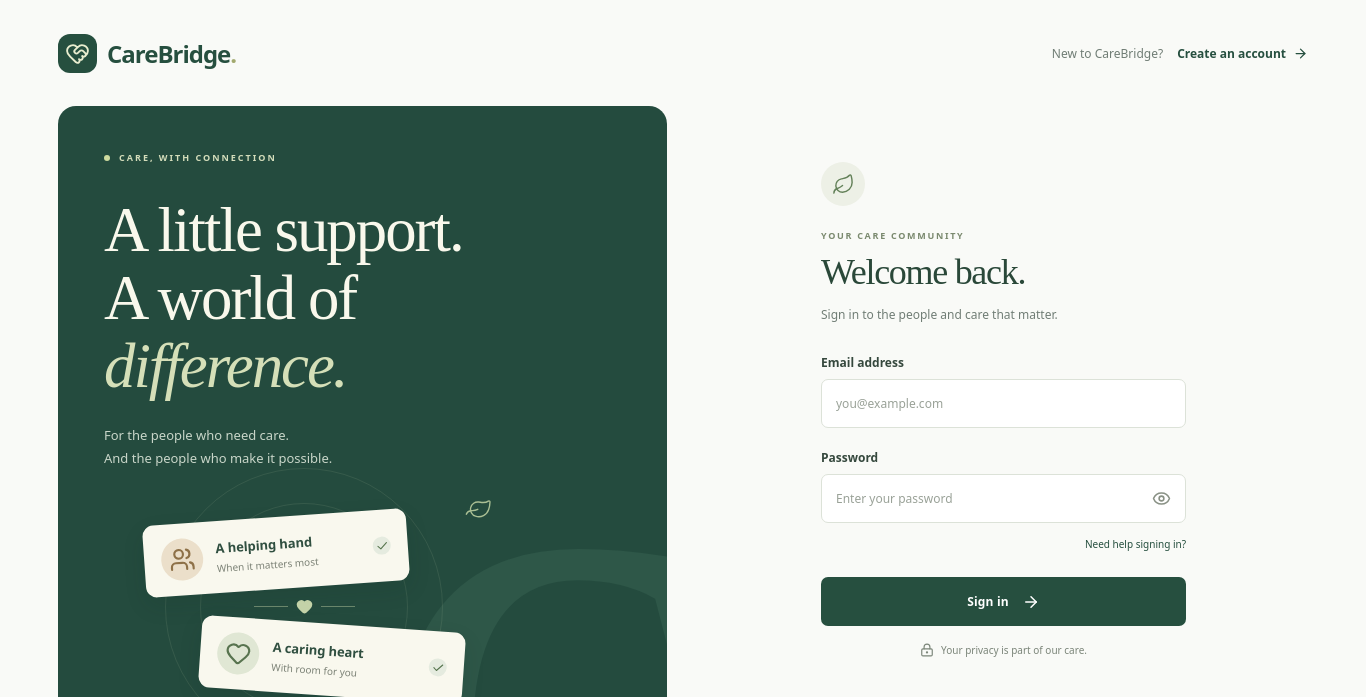
Test: CareBridge authentication › renders an accessible login form and signs in with email and password
In the field labelled "Email address": (1004, 404) [821,379,1186,428], type "guardian@example.com"
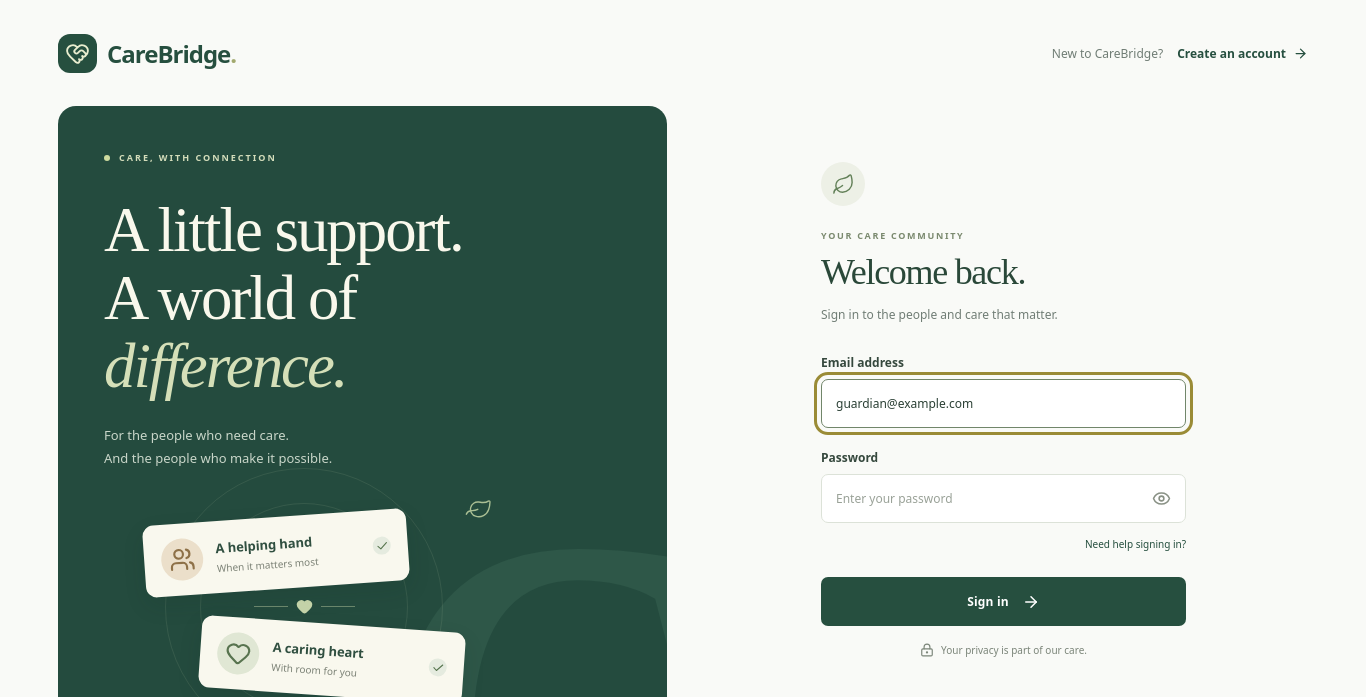
In the password field labelled "Password": (1004, 499) [821,474,1186,523], type "A-long-demo-password!"
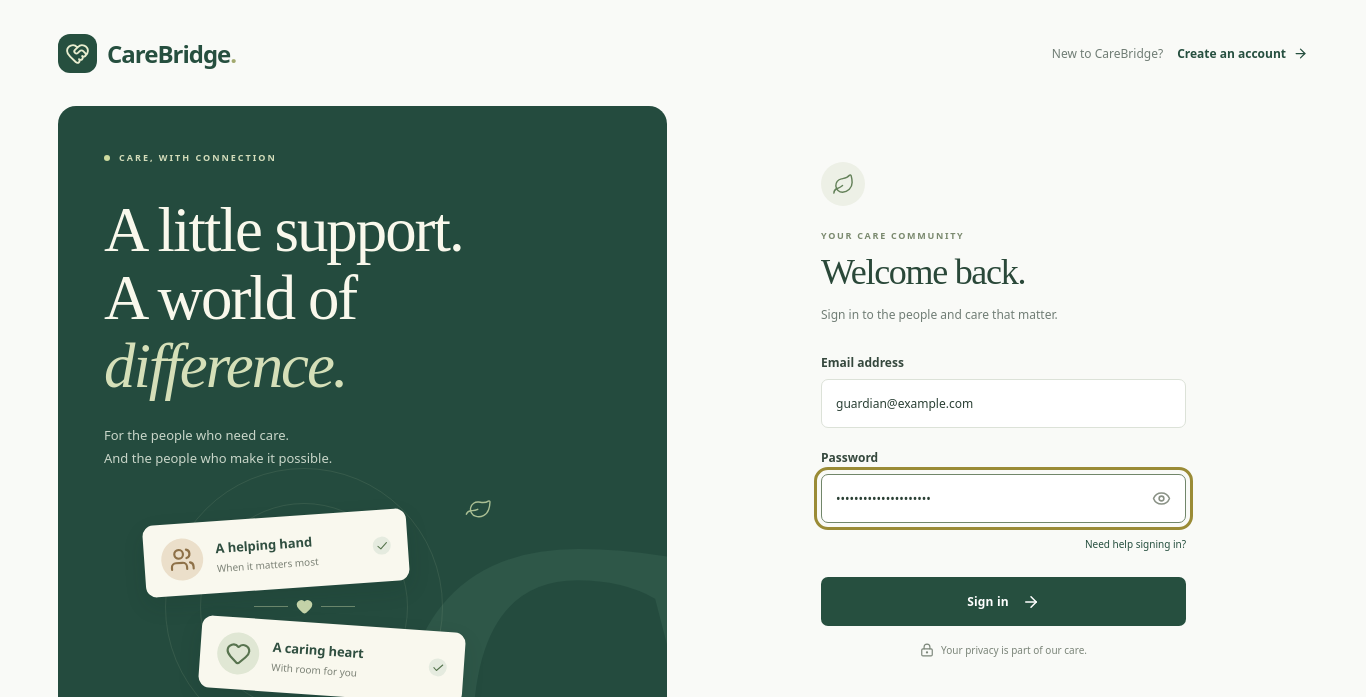
Click the button "Sign in": click(1004, 602) [821,577,1186,626]
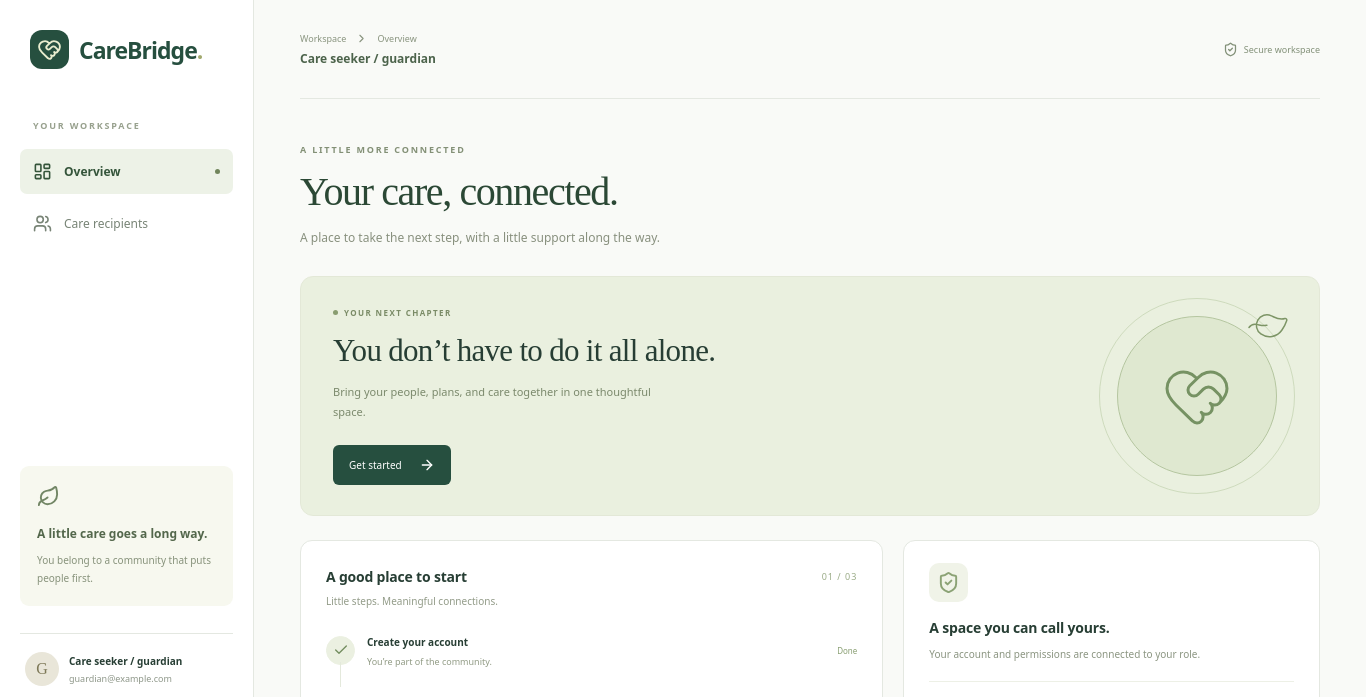
Check: the heading "Your care, connected." is shown, box [300,169,618,214]
Check: the button "Care recipients" is shown, box [20,201,233,246]
